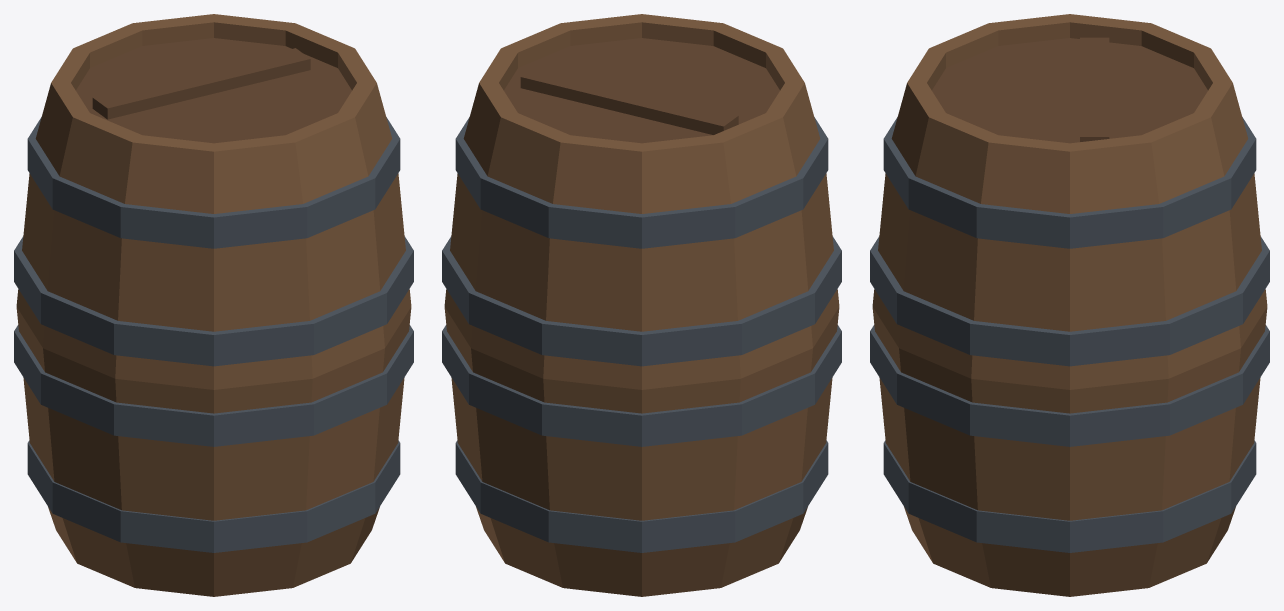
The model's file is Barrel.fbx.
3 renders of one model, left to right at view 1: azimuth 30°, elevation 25°; view 2: azimuth 150°, elevation 25°; view 3: azimuth 270°, elevation 25°, orthographic.
Visible parts, largest first — view 1: Staves, Hoops, Lid; view 2: Staves, Hoops, Lid; view 3: Staves, Hoops, Lid.
Part boxes in pixels (x1=…): Staves: x1=16, y1=14, x2=411, y2=596; Hoops: x1=14, y1=117, x2=413, y2=552; Lid: x1=76, y1=38, x2=351, y2=143; Staves: x1=444, y1=14, x2=839, y2=596; Hoops: x1=442, y1=117, x2=841, y2=552; Lid: x1=504, y1=38, x2=779, y2=143; Staves: x1=872, y1=14, x2=1267, y2=596; Hoops: x1=870, y1=117, x2=1269, y2=552; Lid: x1=932, y1=37, x2=1207, y2=143.
Size of the model in its own units: 1.62 by 2 by 1.62.
